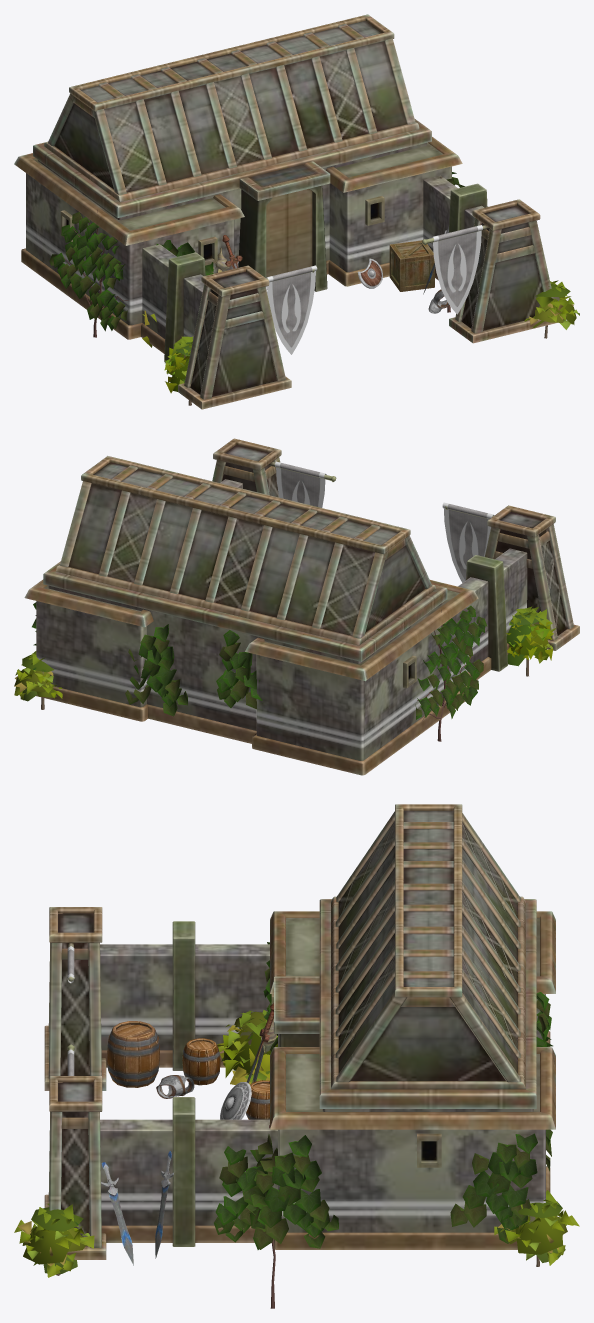
Rendered from 41-militarybarracks.glb.
3 renders of one model, top to bottom at view 1: azimuth 30°, elevation 25°; view 2: azimuth 150°, elevation 25°; view 3: azimuth 270°, elevation 25°, orthographic. The views are drawn at different scales.
Size of the model in its own units: 8.89 by 5.51 by 9.
Materials: 15 (15 with a texture image).
